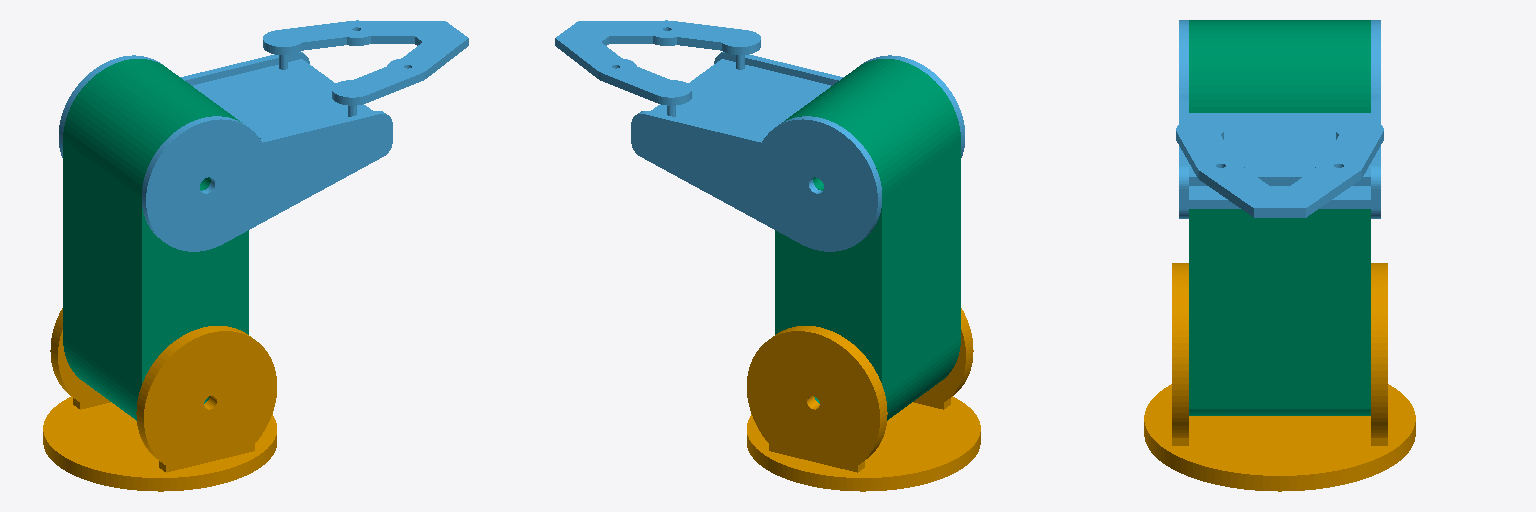
robot.urdf — autoarm:
<?xml version="1.0"?>

<robot name="autoarm">


  <link name="base_link">
    <visual>
      <geometry>
        <mesh filename="package://autoarm_description/meshes/joint.dae"/>
      </geometry>
    </visual>
  </link>


<link name="head_link">
    <visual>
      <geometry>
        <mesh filename="package://autoarm_description/meshes/head.dae"/>
      </geometry>
    </visual>
  </link>

<link name="arm_link">
    <visual>
      <geometry>
        <mesh filename="package://autoarm_description/meshes/arm.dae"/>
      </geometry>
    </visual>
  </link>

 <joint name="base_to_arm" type="revolute">
    <parent link="base_link"/>
    <child link="arm_link"/>
    <origin xyz="0 0 0" rpy="0 0 0"/>
    <axis xyz="0 1 0"/>
    <limit effort="1000.0" lower="-1.5" upper="1.5" velocity="0.5"/>
  </joint>

 <joint name="arm_to_head" type="revolute">
    <parent link="arm_link"/>
    <child link="head_link"/>
    <origin xyz="0 0 0.08" rpy="0 0 0"/>
    <axis xyz="0 1 0"/>
    <limit effort="1000.0" lower="-1.5" upper="1.5" velocity="0.5"/>
  </joint>







</robot>

--- Facts derived from the render (not from the file) ---
3 views of the same robot in one strip: view 1: azimuth 30°, elevation 25°; view 2: azimuth 150°, elevation 25°; view 3: azimuth 270°, elevation 25° (orthographic).
Robot: autoarm — 3 links, 2 joints (2 revolute); root link base_link; default pose: every joint at zero.
Visible links, largest first — view 1: arm_link, head_link, base_link; view 2: arm_link, head_link, base_link; view 3: arm_link, base_link, head_link.
Link boxes in pixels (x1,y1,x2,y2): arm_link: [63, 59, 248, 420]; head_link: [59, 20, 468, 251]; base_link: [43, 308, 276, 491]; arm_link: [775, 59, 960, 420]; head_link: [555, 20, 964, 251]; base_link: [747, 308, 980, 491]; arm_link: [1189, 20, 1370, 415]; base_link: [1144, 263, 1415, 491]; head_link: [1176, 20, 1383, 218].
Size in the robot's own frame: 0.1552 by 0.079 by 0.131 metres.
Meshes: 3 distinct files referenced, 3 mesh visuals loaded (3 Collada DAE).